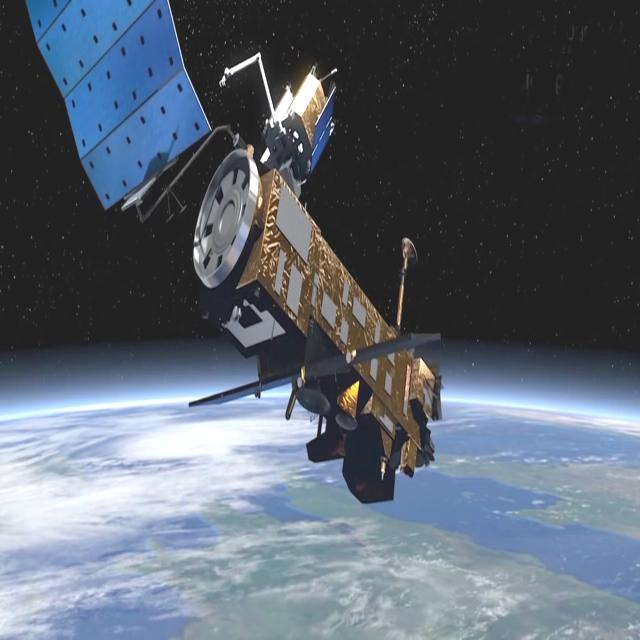medium_debris: (17, 1, 455, 510)
